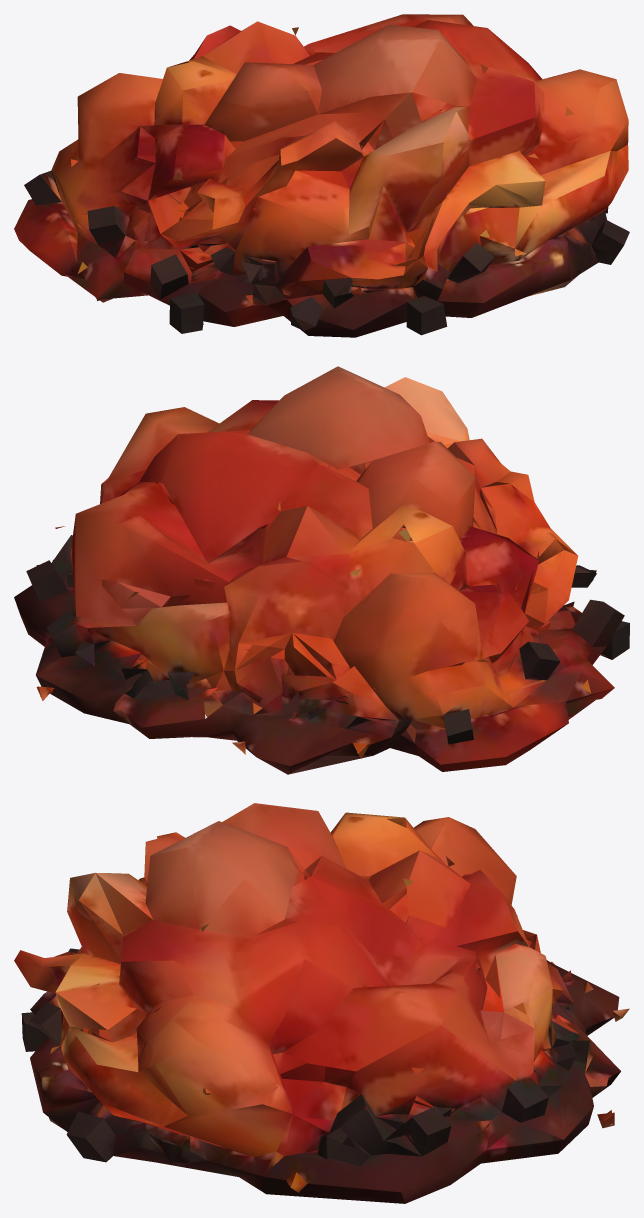
Rendered from 火計大火.glb.
The picture shows the model from 3 angles, top to bottom: view 1: azimuth 30°, elevation 25°; view 2: azimuth 150°, elevation 25°; view 3: azimuth 270°, elevation 25°; orthographic projection. The views are drawn at different scales.
Parts seen in each view (by area): view 1: geometry_0; view 2: geometry_0; view 3: geometry_0.
Boxes of the visible parts, x1,y1,x2,y2 form: geometry_0: [14, 14, 629, 337]; geometry_0: [14, 366, 629, 774]; geometry_0: [14, 803, 629, 1203].
Bounding box in the file's own units: 0.998 × 0.4189 × 0.9221.
Materials: 1 (1 with a texture image).
